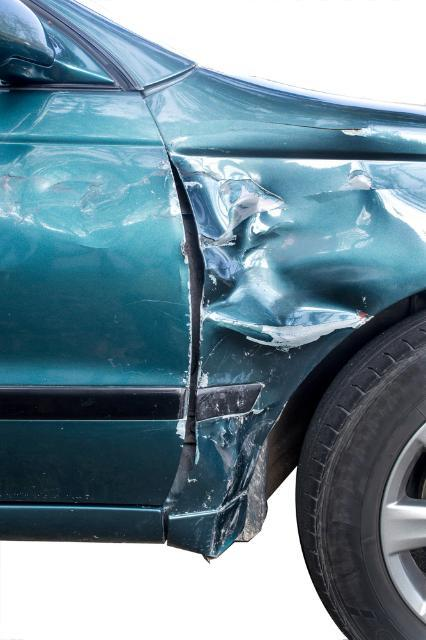dent: (174, 157, 402, 463), (0, 151, 171, 242)
dislocated part: (169, 153, 426, 550)
